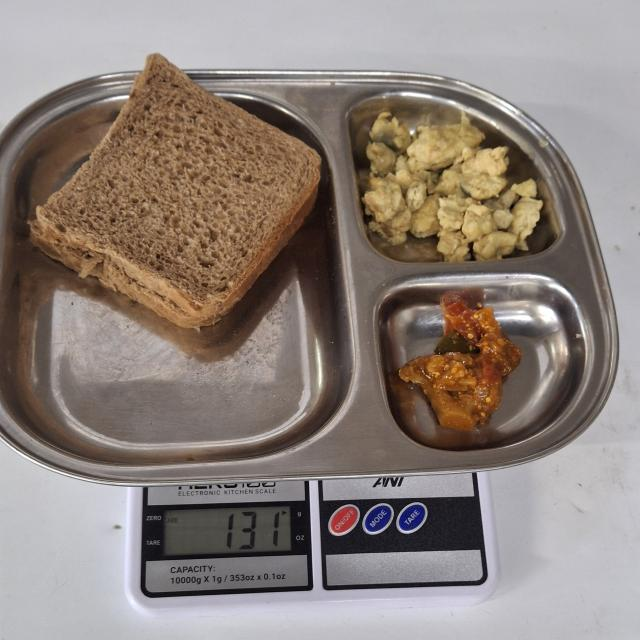Achar: (396, 283, 524, 439)
Bread: (30, 50, 322, 336)
Egg Bhurji: (358, 103, 546, 261)
